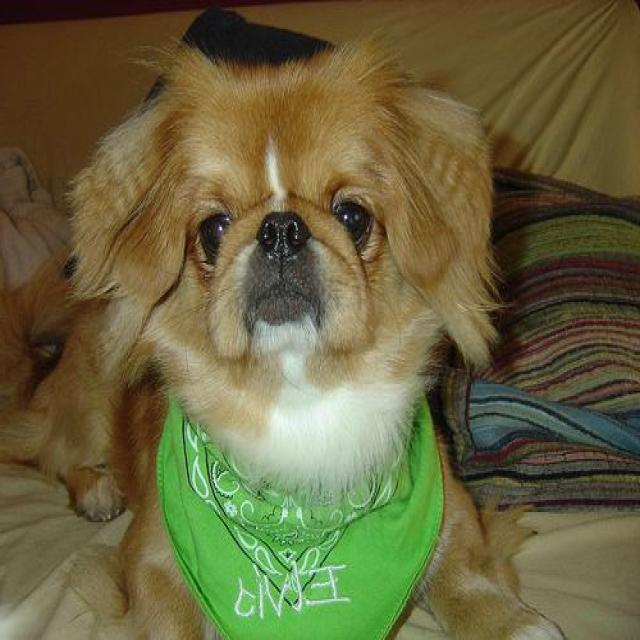pekinese: (1, 26, 567, 638)
